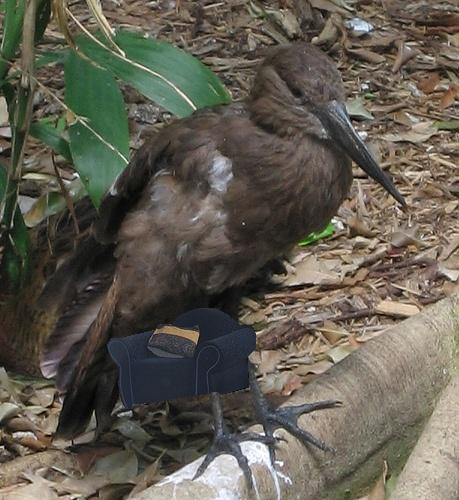tampered: (108, 309, 256, 409)
